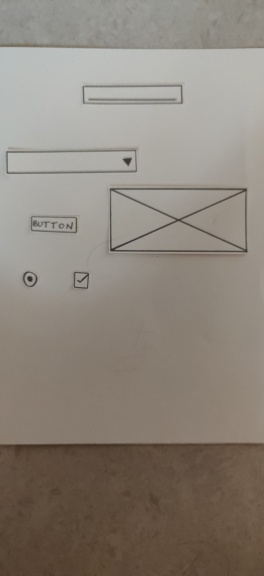button: (27, 213, 81, 236)
checkbox: (70, 268, 92, 293)
dropdown: (3, 146, 144, 175)
img: (105, 183, 252, 261)
radio: (19, 268, 42, 291)
text: (78, 79, 187, 109)
